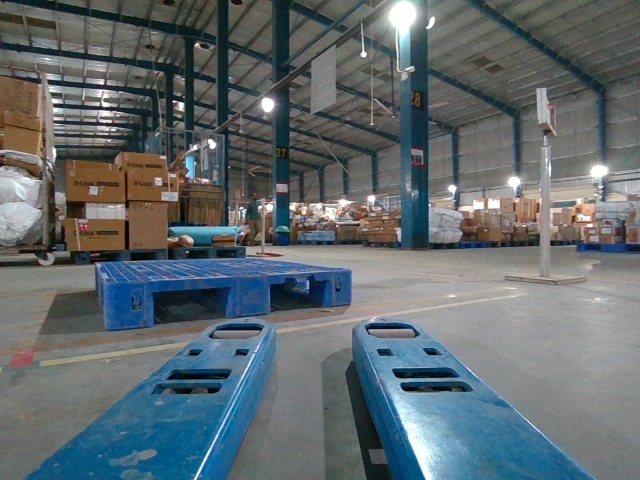block: (103, 280, 154, 328), (232, 274, 273, 319), (324, 270, 351, 307)
front: (104, 270, 352, 329)
hole pallet: (153, 286, 233, 322), (272, 283, 329, 314)
